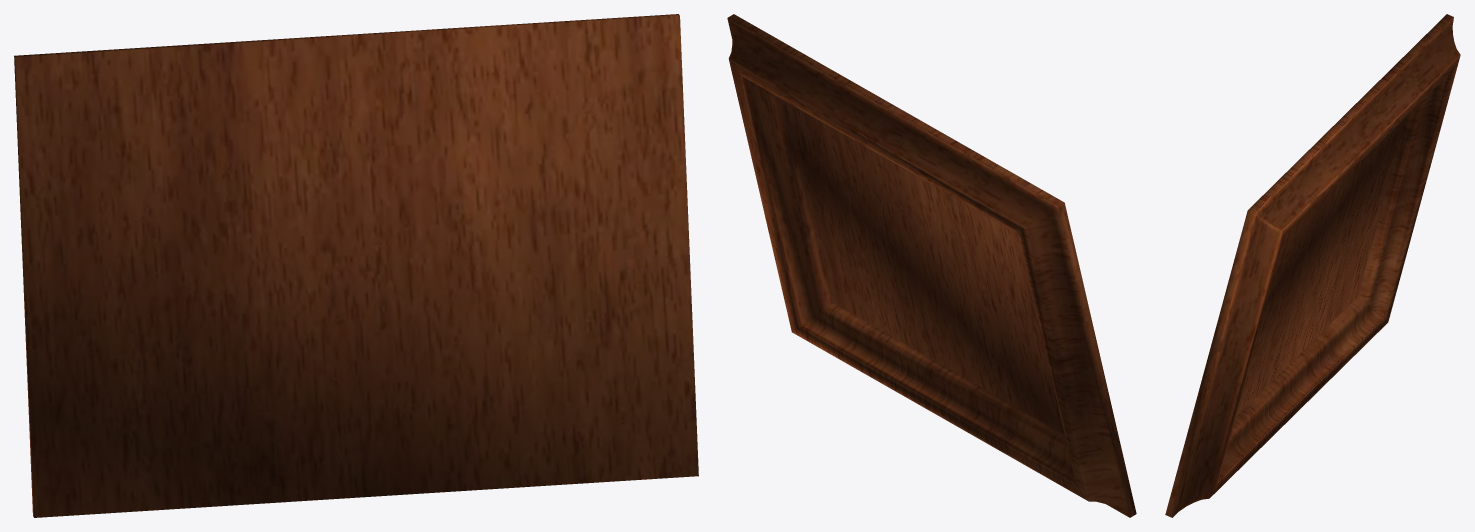
File: cuadro1.glb
The picture shows the model from 3 angles, left to right: view 1: azimuth 30°, elevation 25°; view 2: azimuth 150°, elevation 25°; view 3: azimuth 270°, elevation 25°; orthographic projection. The views are drawn at different scales.
Parts seen in each view (by area): view 1: Marco.003; view 2: Marco.003; view 3: Marco.003.
Part boxes in pixels (left/top/right/bottom): Marco.003: left=14, top=14, right=698, bottom=517; Marco.003: left=727, top=14, right=1136, bottom=517; Marco.003: left=1165, top=14, right=1460, bottom=517.
Bounding box in the file's own units: 0.1965 × 0.1379 × 0.114.
1 material, 1 textured.
